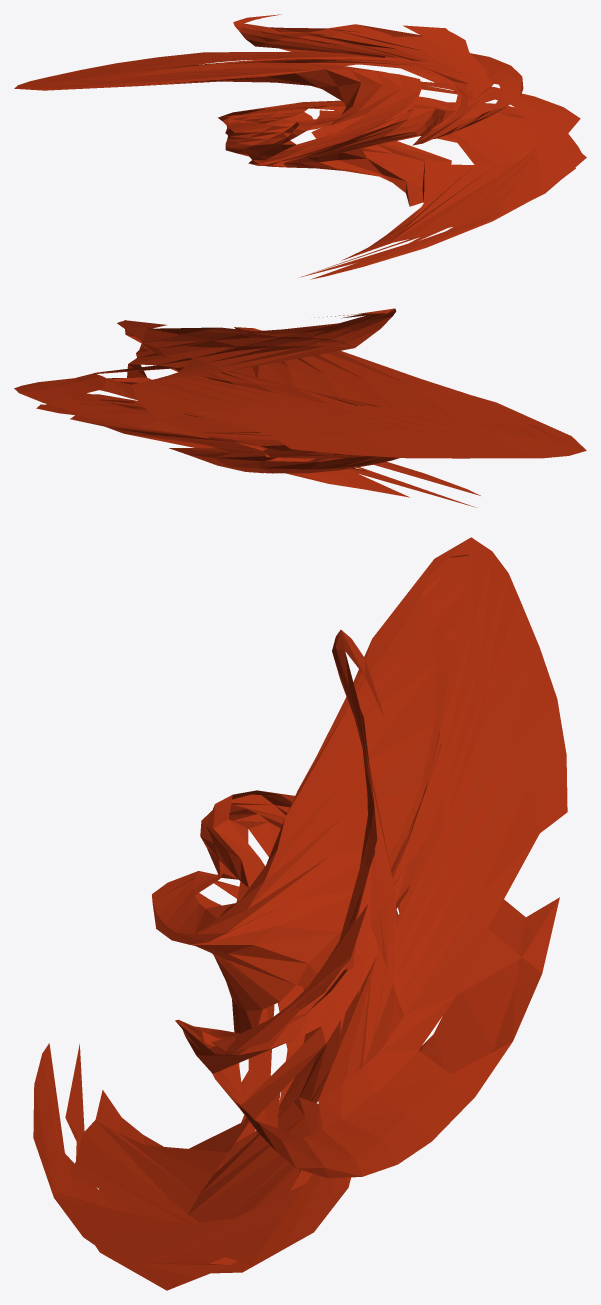
File: BlastImpact1.obj
3 renders of one model, top to bottom at view 1: azimuth 30°, elevation 25°; view 2: azimuth 150°, elevation 25°; view 3: azimuth 270°, elevation 25°, orthographic. The views are drawn at different scales.
Parts seen in each view (by area): view 1: Meshpart1; view 2: Meshpart1; view 3: Meshpart1.
Boxes of the visible parts, x1=… form: Meshpart1: x1=14, y1=14, x2=586, y2=279; Meshpart1: x1=14, y1=308, x2=586, y2=507; Meshpart1: x1=33, y1=537, x2=567, y2=1290.
Size of the model in its own units: 29.47 by 11.45 by 13.32.
